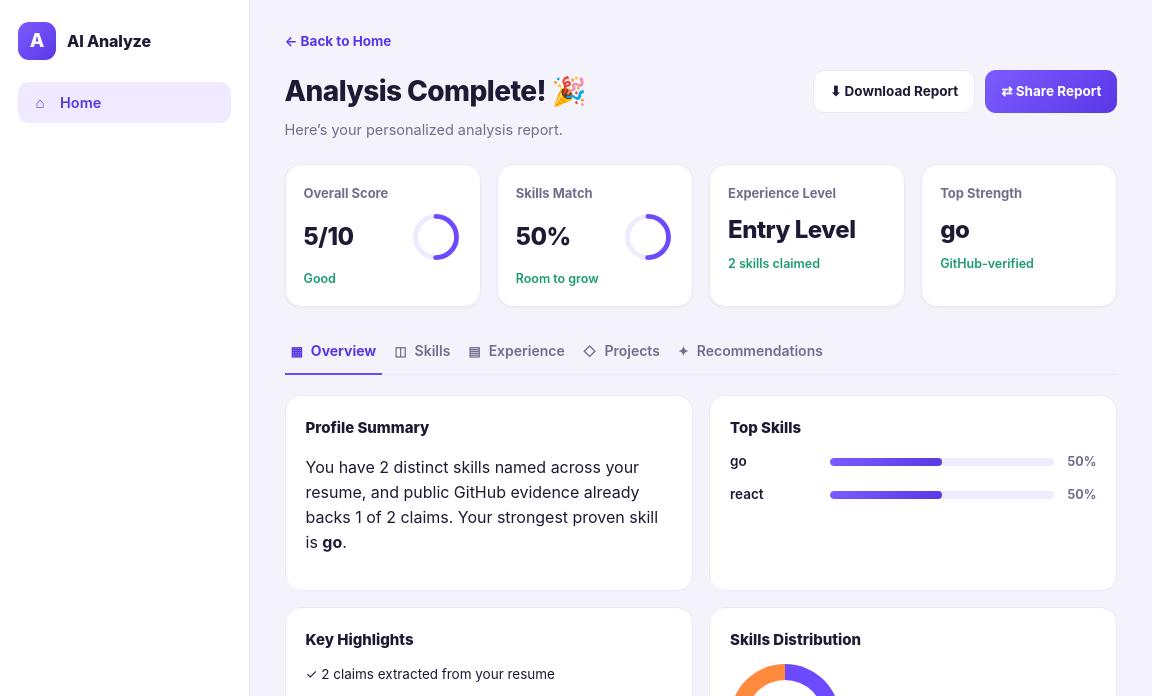
Test: AnalysisDashboard › switches tab content on click
Expected: the text "Profile Summary" is shown, [306,418,429,437]
Click the tab "◫ Skills".
click(422, 352)  # box [388,329,456,375]
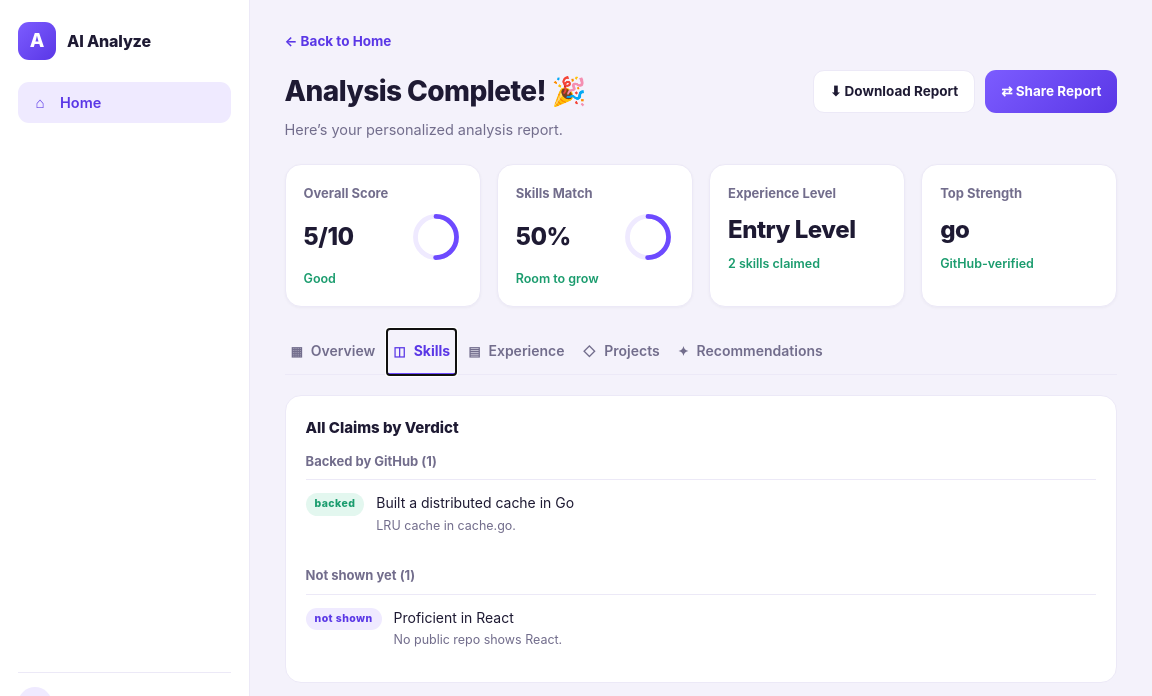
Result: the text "Backed by GitHub (1)" is shown at [306,453,437,469]
Result: the text "Built a distributed cache in Go" is shown at [376,492,574,514]
Click the tab "◇ Projects".
click(621, 352)  # box [576,329,666,375]
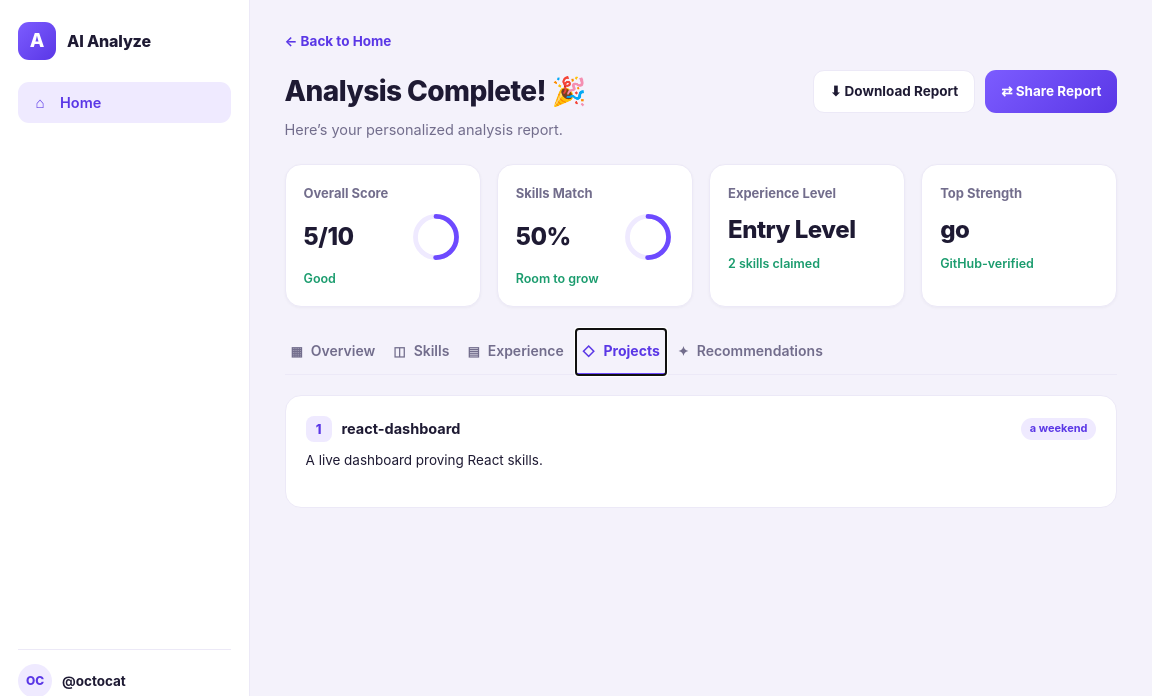
Result: the text "react-dashboard" is shown at [342,418,460,440]
Click the tab "✦ Recommendations".
click(750, 352)  # box [672,329,829,375]
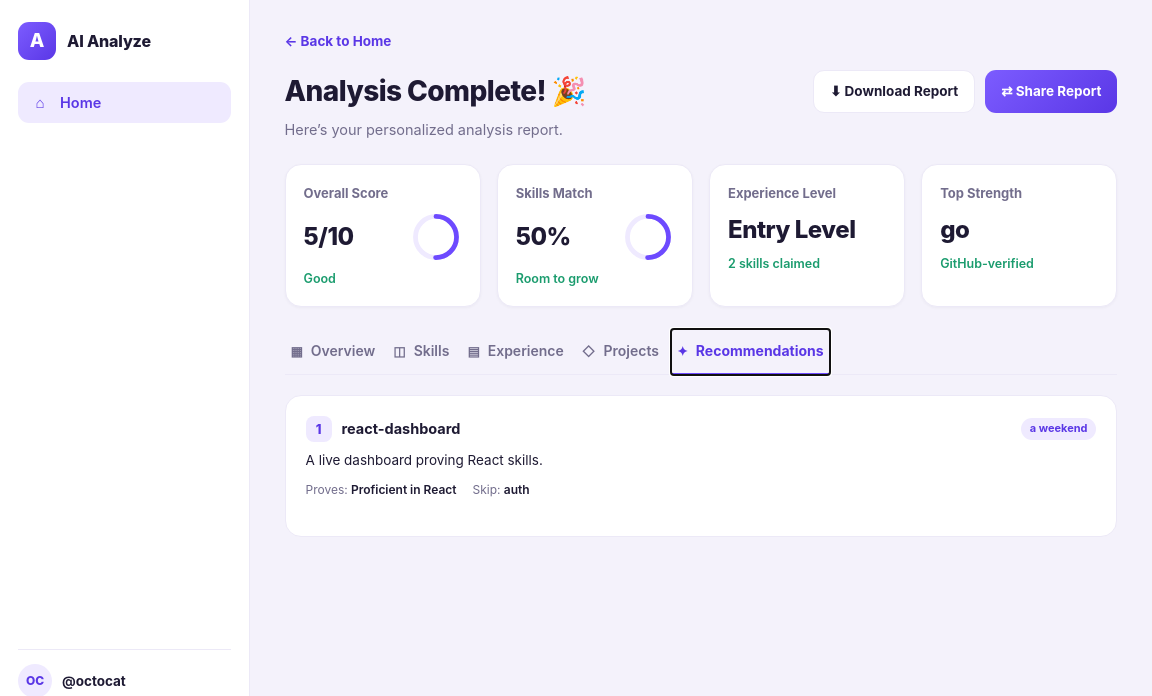
Result: the text "react-dashboard" is shown at [342,420,460,437]
Result: the text "Proves: Proficient in React" is shown at [306,481,456,500]
